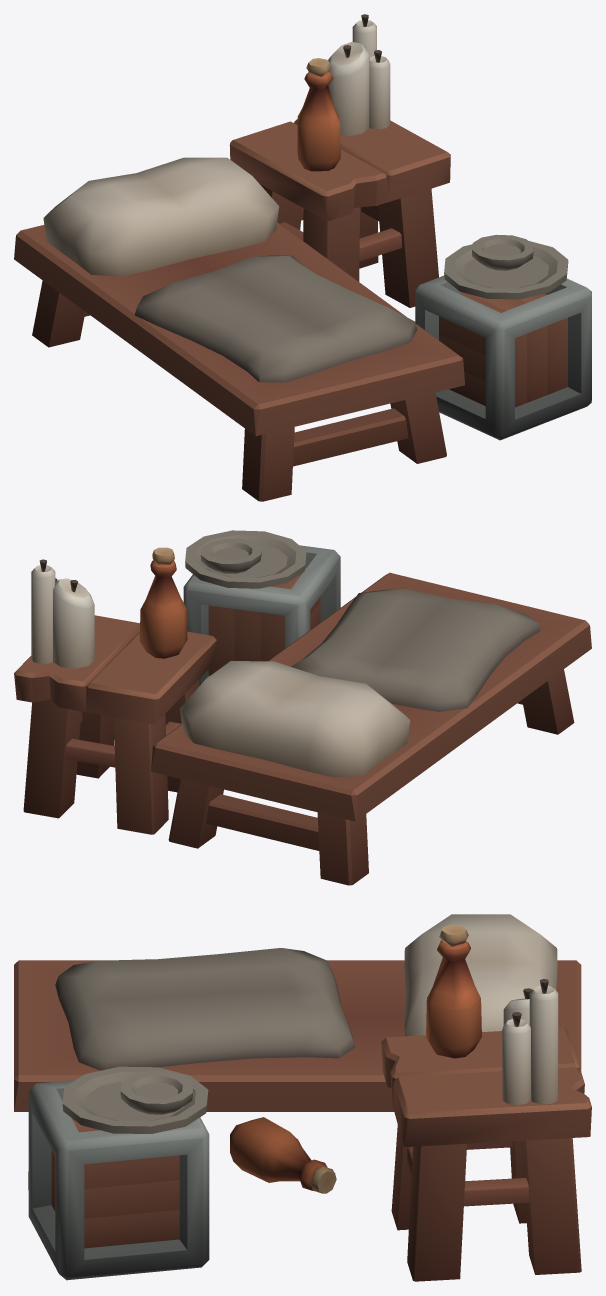
The model's file is bed-decorated.glb.
The picture shows the model from 3 angles, top to bottom: view 1: azimuth 30°, elevation 25°; view 2: azimuth 150°, elevation 25°; view 3: azimuth 270°, elevation 25°; orthographic projection. The views are drawn at different scales.
Parts seen in each view (by area): view 1: bed-decorated; view 2: bed-decorated; view 3: bed-decorated.
Part boxes in pixels (x1=…): bed-decorated: x1=14, y1=14, x2=591, y2=501; bed-decorated: x1=14, y1=530, x2=591, y2=885; bed-decorated: x1=14, y1=914, x2=591, y2=1281.
Bounding box in the file's own units: 1.92 × 1.25 × 2.25.
